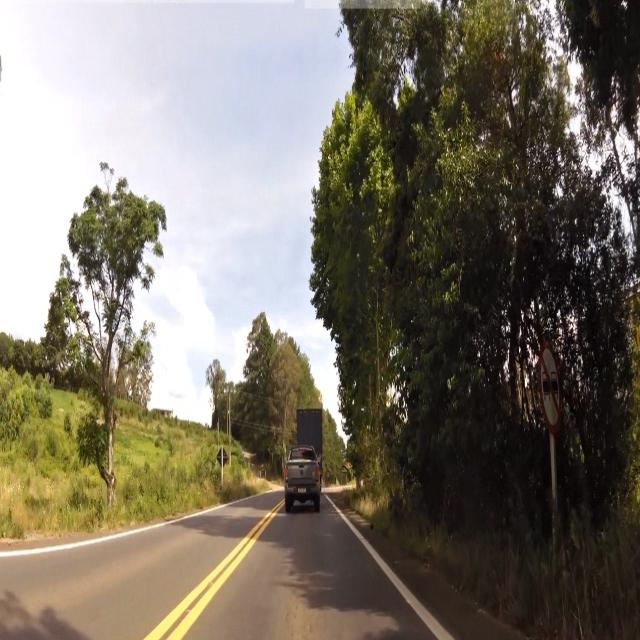R-7: (534, 348, 569, 422)
